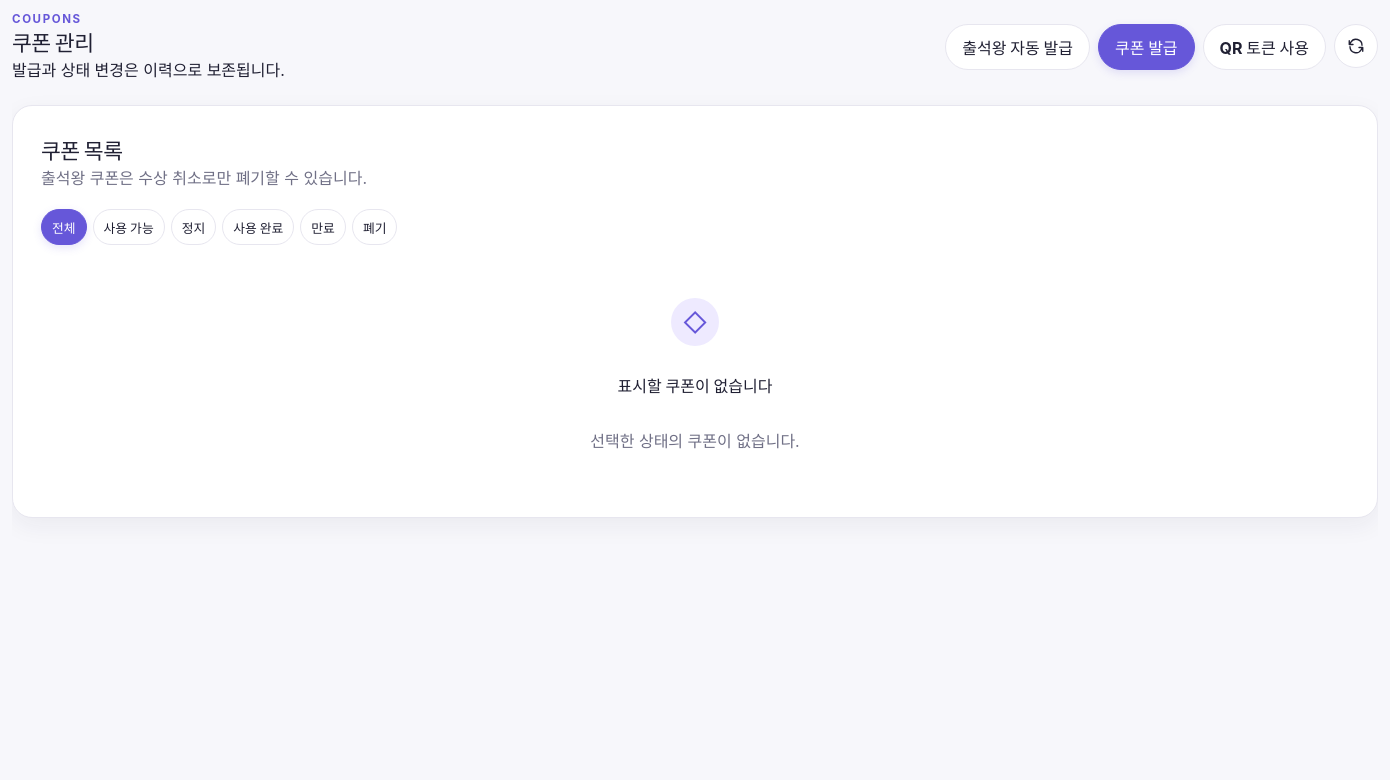
Test: CouponPage › filters members by a typed name before selecting a coupon recipient
Click the button "쿠폰 발급" at x=1146, y=46, box [1098,24,1195,70]
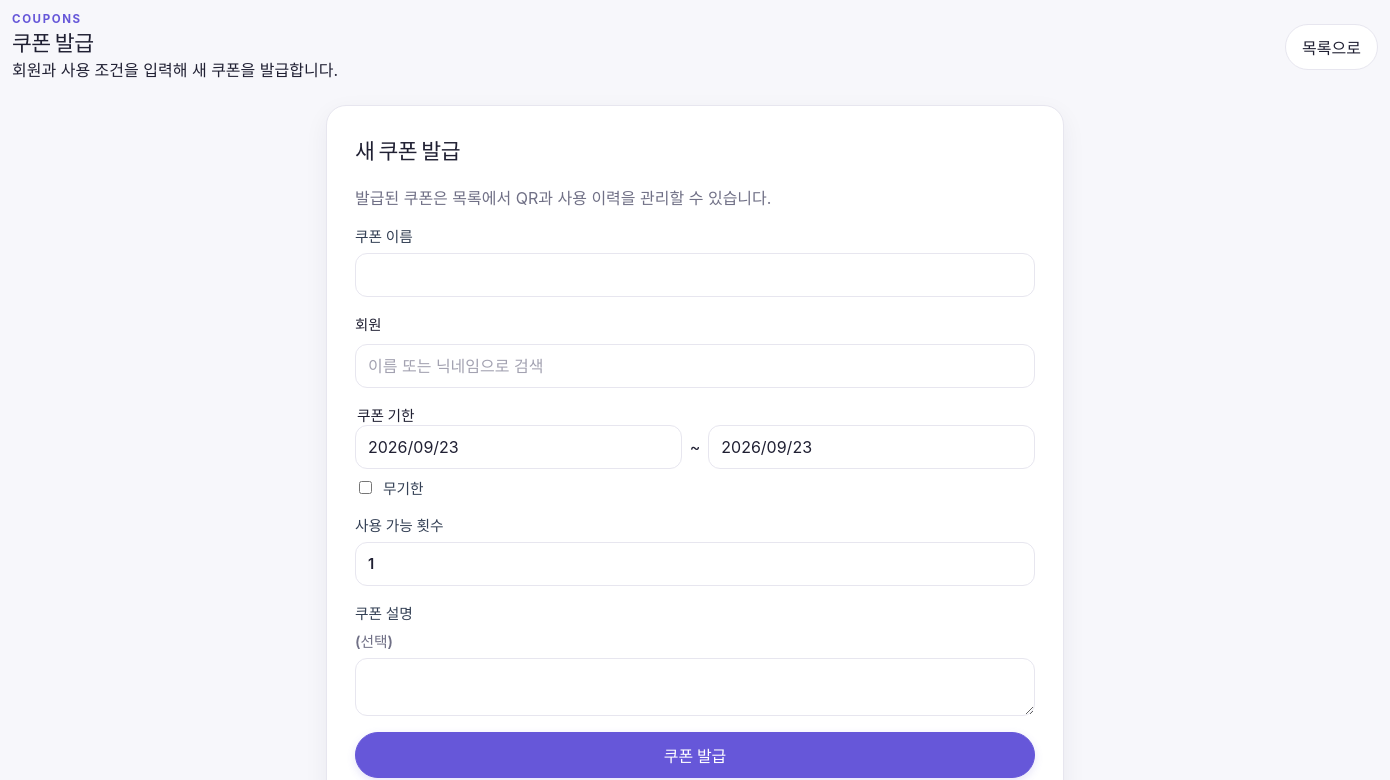
Type "라마" into the dropdown labelled "회원" at x=695, y=366, box [355,344,1035,388]
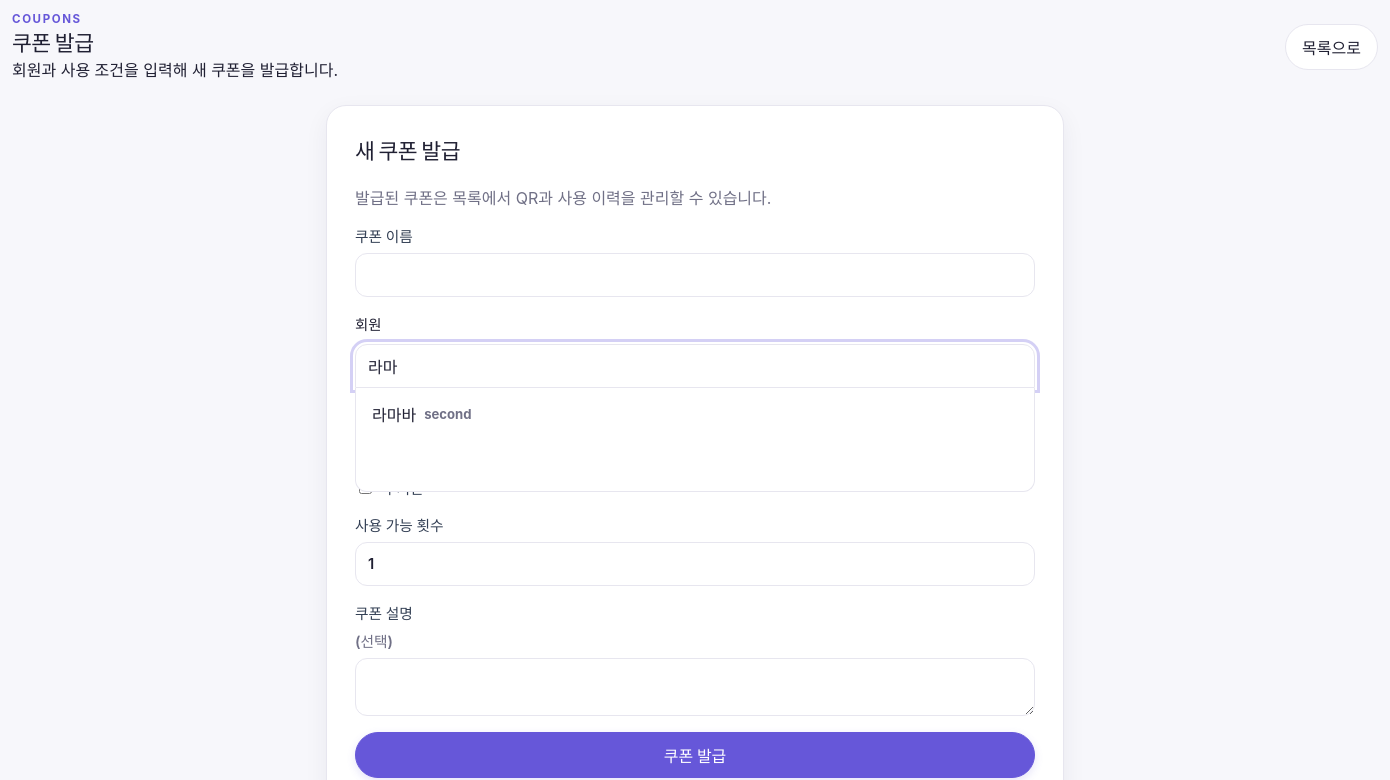
Now the option "라마바 second" is shown, box [360,392,1030,436]
